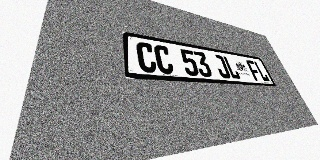3: (193, 51, 213, 77)
5: (180, 49, 200, 76)
C: (136, 41, 158, 73), (153, 44, 175, 74)
F: (245, 60, 263, 81)
J: (212, 54, 231, 79)
L: (222, 56, 241, 79), (253, 61, 270, 82)
